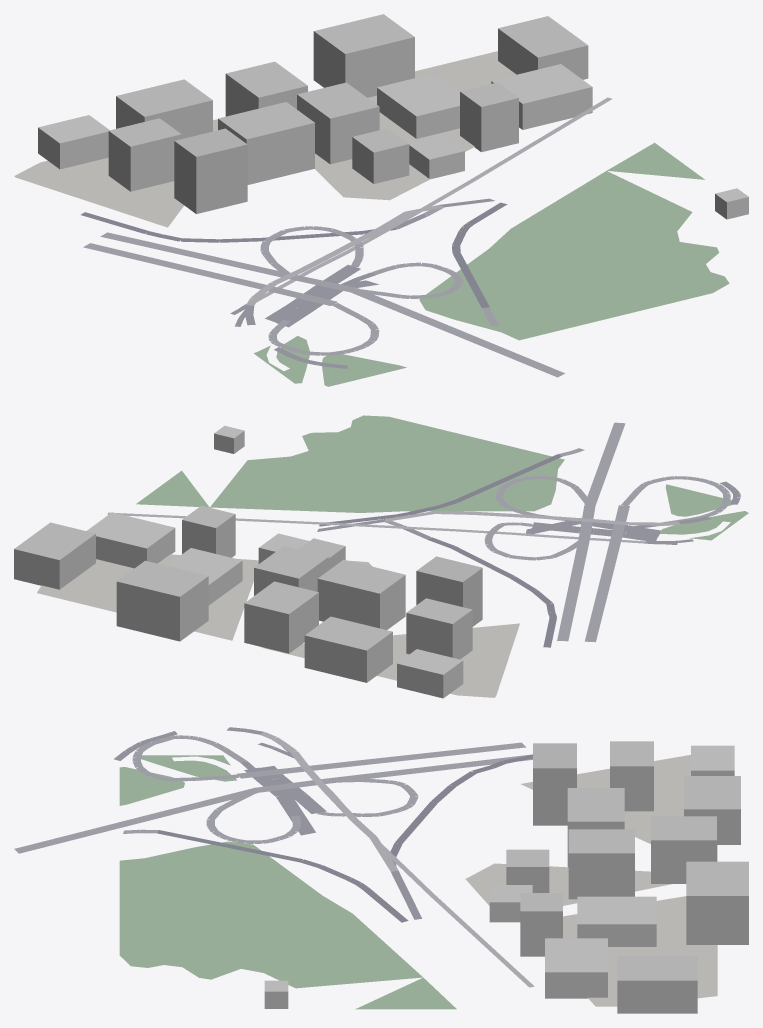
File: 136_95_mid.glb
3 views of the same model, one above another, from view 1: azimuth 30°, elevation 25°; view 2: azimuth 150°, elevation 25°; view 3: azimuth 270°, elevation 25° (orthographic). The views are drawn at different scales.
Size of the model in its own units: 534 by 56.44 by 614.
